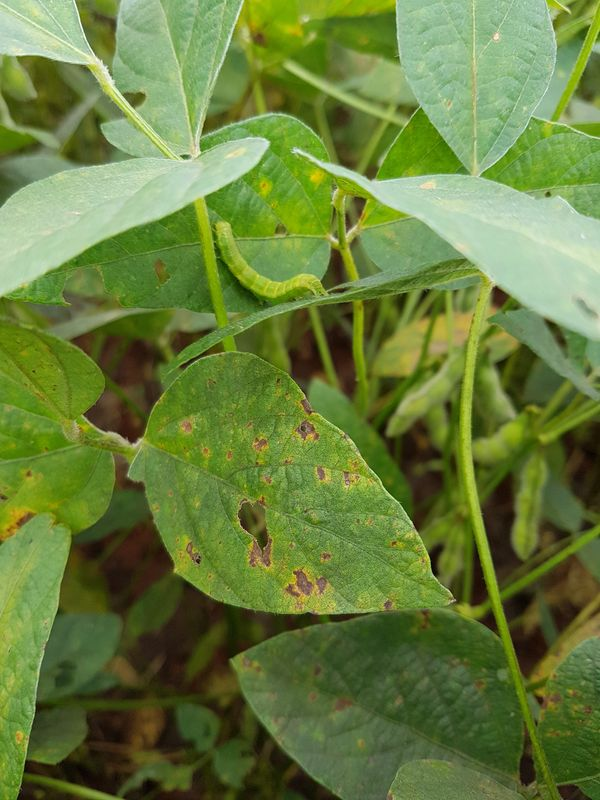Anticarsia_gemmatalis: (199, 203, 346, 319)
